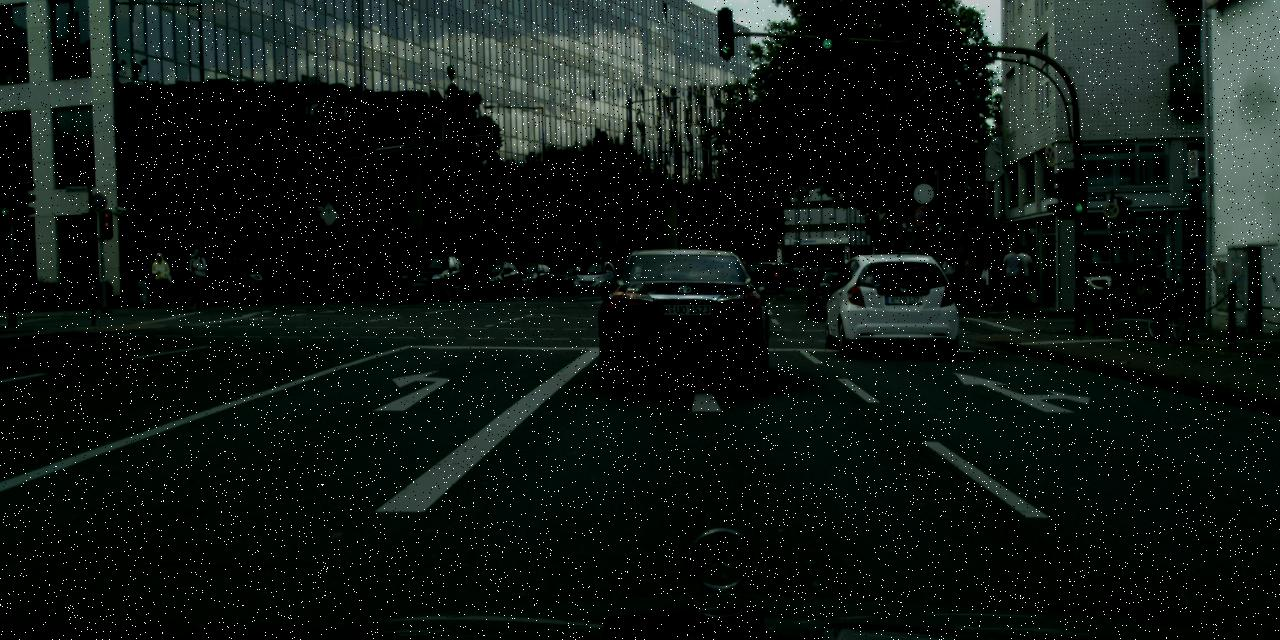ped: (941, 247, 986, 304), (980, 243, 1006, 304), (1000, 244, 1025, 306), (1010, 245, 1033, 304), (186, 247, 208, 305), (147, 252, 169, 306), (132, 254, 154, 307), (226, 256, 245, 303)
